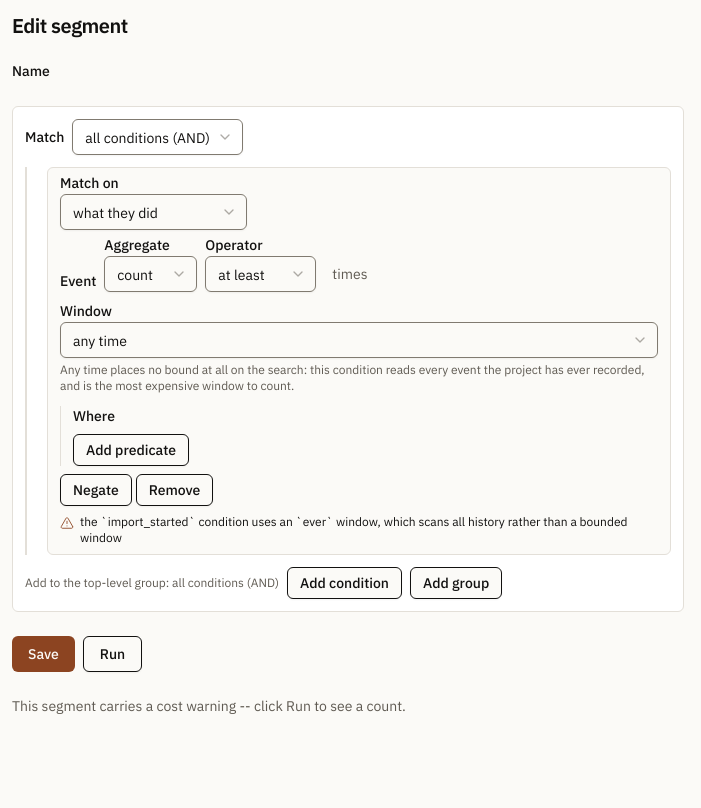
Test: SegmentBuilder -- live counts › a count left standing for a tree that has since changed says so, rather than only dimming
Check: the element with test id "condition-0" is shown, box top-left (47, 167), bottom-right (671, 555)
Click the button "Run". click: click(112, 654)
box: top-left (83, 636), bottom-right (142, 672)
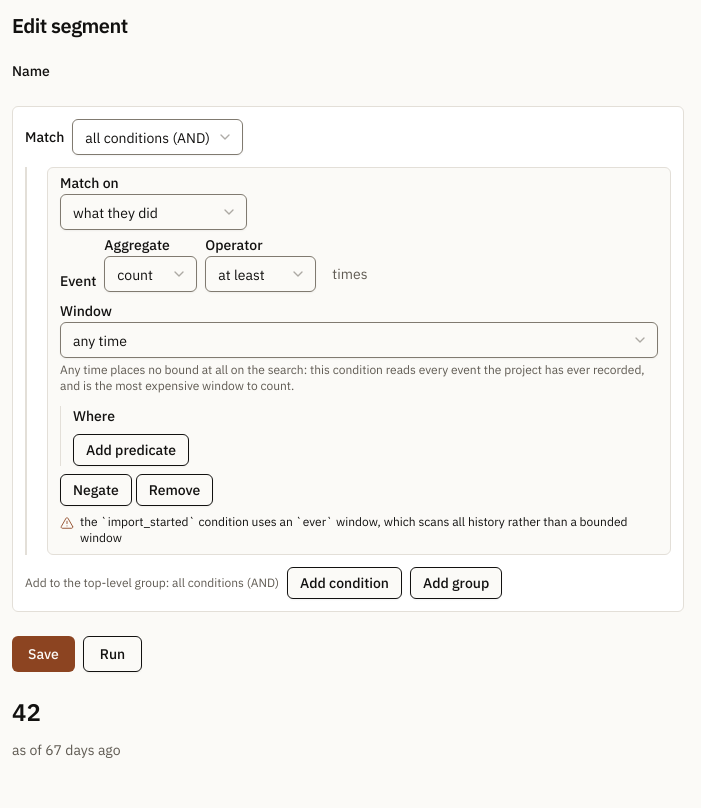
Check: the text with test id "segment-preview-count" reads "42", box top-left (12, 696), bottom-right (41, 728)
Click the button "Negate". click: click(96, 490)
box: top-left (60, 474), bottom-right (132, 506)
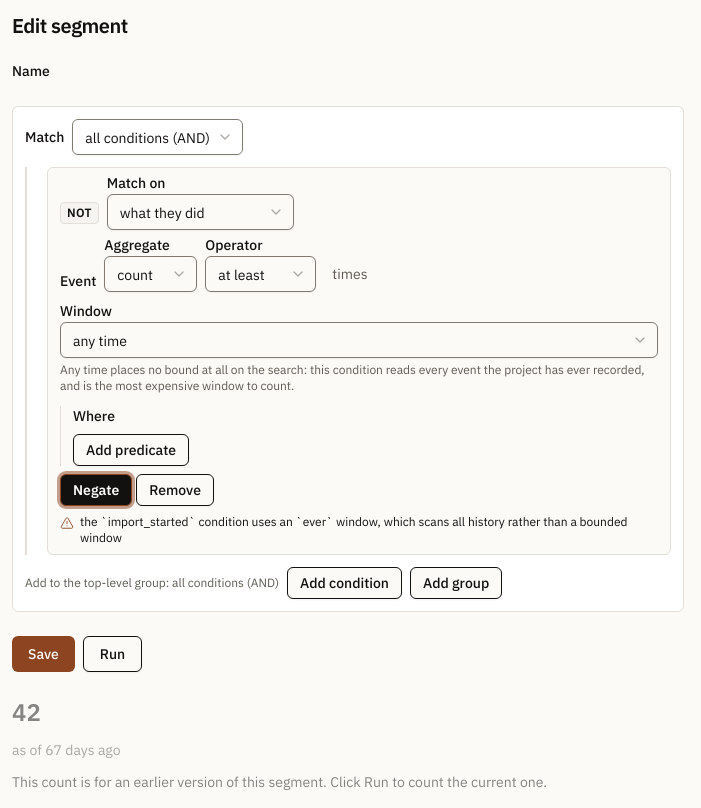
Check: the text with test id "segment-preview-count" reads "42", box top-left (12, 696), bottom-right (41, 728)
Check: the text with test id "segment-preview-stale-note" shows "earlier version", box top-left (12, 773), bottom-right (547, 791)
